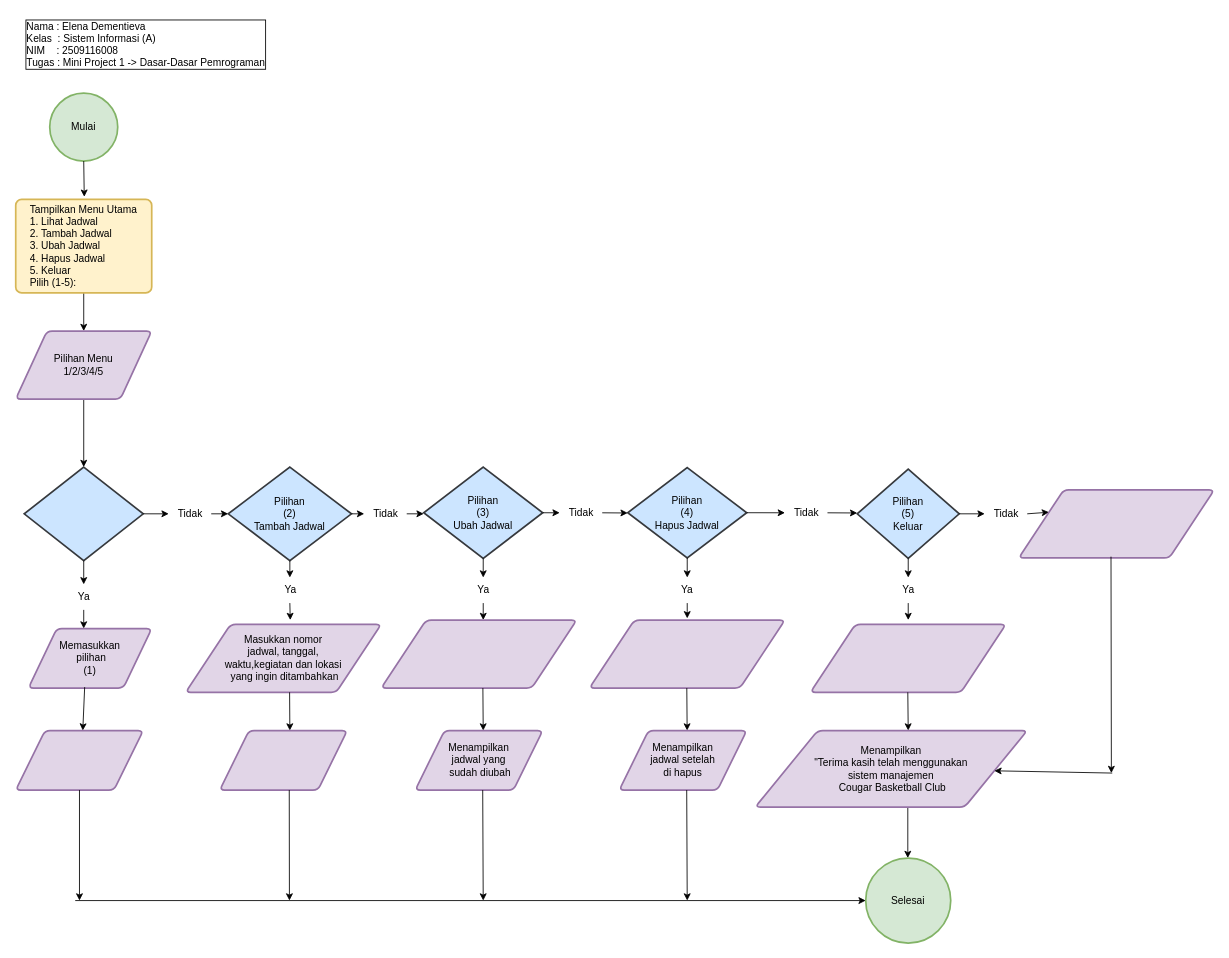
Image size: 1229x958. Some labels were removed from this diagram. The box of each missing label's shape, as (x1, y1, x2, y2) in pixels:
Masukkan nomor 1: (809, 623, 1006, 693)
Masukkan nomor 2: (1017, 489, 1215, 558)
Masukkan nomor jadwal yang ingin di hapus: (588, 619, 785, 688)
Masukkan nomor jadwal, tanggal, waktu, kegiatan dan lokasi yang ingin diubah: (380, 619, 577, 688)
Menampilkan jadwal utama: (14, 729, 144, 790)
Menampilkan jadwal yang sudah ditambahkan: (218, 729, 348, 790)
Pilihan (1) Lihat Jadwal: (23, 466, 144, 561)
